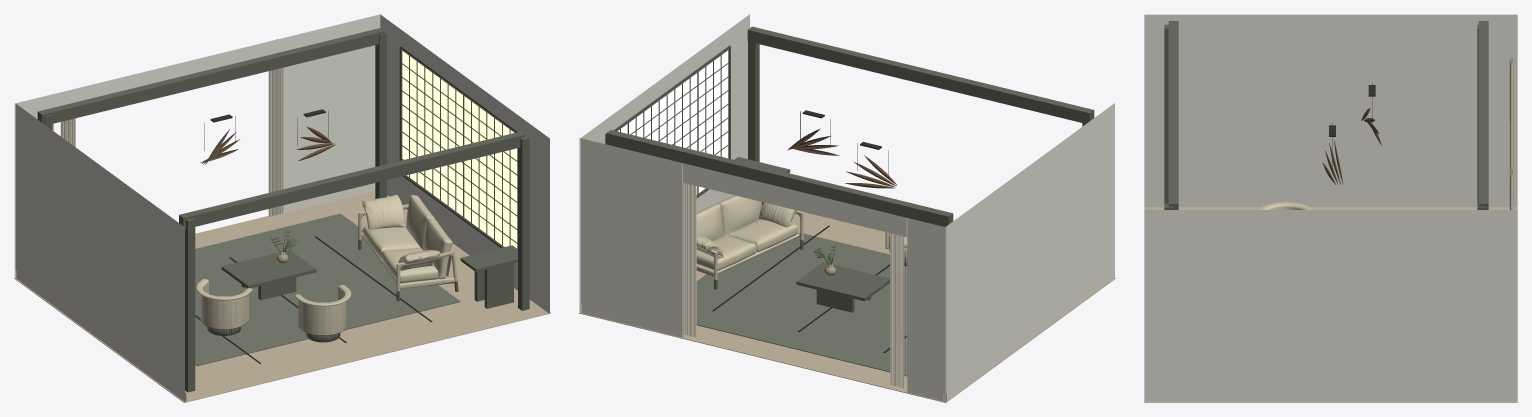
Rendered from great-2.glb.
3 views of the same model, side by side, from view 1: azimuth 30°, elevation 25°; view 2: azimuth 150°, elevation 25°; view 3: azimuth 270°, elevation 25° (orthographic). The views are drawn at different scales.
Visible parts, largest first — view 1: DESIGN | great removable wall finish, DESIGN | Great room primary ground, DESIGN | great floor finish, DESIGN | Long luminous room backdrop diffuse backing, DESIGN | Great room sofa facing conversation, DESIGN | Great room timber ceiling member.001, DESIGN | Great room timber ceiling member, DESIGN | Kumiko | Long luminous room backdrop, DESIGN | Great room soft window edge.001, DESIGN | Great room timber end post.002, DESIGN | Required Bellustar swivel chair two, DESIGN | Great room conversation table top (+7 smaller); view 2: DESIGN | great removable wall finish, DESIGN | Great room primary ground, DESIGN | great floor finish, DESIGN | Great room sofa facing conversation, DESIGN | Great room timber ceiling member, DESIGN | Long luminous room backdrop diffuse backing, DESIGN | Great room timber ceiling member.001, DESIGN | Kumiko | Long luminous room backdrop, DESIGN | Great room soft window edge, DESIGN | Great room soft window edge.001, DESIGN | Great room conversation table top, DESIGN | Great room timber end post.002 (+3 smaller); view 3: DESIGN | great removable wall finish, DESIGN | Great room timber ceiling member, DESIGN | Great room timber ceiling member.001, DESIGN | great floor finish, DESIGN | Great room timber end post, DESIGN | Great room soft window edge, DESIGN | Great room timber end post.001, DESIGN | Required Flou pendant 2, DESIGN | Required Bellustar swivel chair one.
Part boxes in pixels (x1,y1,x2,y2): DESIGN | great removable wall finish: [14, 14, 549, 401]; DESIGN | Great room primary ground: [195, 213, 460, 365]; DESIGN | great floor finish: [14, 191, 550, 402]; DESIGN | Long luminous room backdrop diffuse backing: [402, 51, 517, 248]; DESIGN | Great room sofa facing conversation: [358, 194, 458, 301]; DESIGN | Great room timber ceiling member.001: [37, 28, 384, 124]; DESIGN | Great room timber ceiling member: [179, 131, 525, 229]; DESIGN | Kumiko | Long luminous room backdrop: [399, 46, 517, 249]; DESIGN | Great room soft window edge.001: [268, 67, 283, 216]; DESIGN | Great room timber end post.002: [518, 135, 529, 310]; DESIGN | Required Bellustar swivel chair two: [294, 285, 351, 342]; DESIGN | Great room conversation table top: [221, 249, 316, 288]; DESIGN | great removable wall finish: [579, 14, 1114, 401]; DESIGN | Great room primary ground: [696, 233, 907, 376]; DESIGN | great floor finish: [579, 212, 1115, 402]; DESIGN | Great room sofa facing conversation: [696, 195, 803, 289]; DESIGN | Great room timber ceiling member: [747, 26, 1094, 123]; DESIGN | Long luminous room backdrop diffuse backing: [618, 50, 728, 194]; DESIGN | Great room timber ceiling member.001: [606, 130, 953, 226]; DESIGN | Kumiko | Long luminous room backdrop: [613, 45, 730, 198]; DESIGN | Great room soft window edge: [890, 233, 904, 387]; DESIGN | Great room soft window edge.001: [683, 182, 696, 337]; DESIGN | Great room conversation table top: [796, 262, 890, 301]; DESIGN | Great room timber end post.002: [748, 41, 759, 161]; DESIGN | great removable wall finish: [1144, 14, 1517, 401]; DESIGN | Great room timber ceiling member: [1168, 21, 1178, 209]; DESIGN | Great room timber ceiling member.001: [1478, 21, 1488, 209]; DESIGN | great floor finish: [1144, 207, 1517, 402]; DESIGN | Great room timber end post: [1164, 24, 1168, 203]; DESIGN | Great room soft window edge: [1509, 59, 1513, 170]; DESIGN | Great room timber end post.001: [1477, 24, 1478, 203]; DESIGN | Required Flou pendant 2: [1322, 140, 1343, 184]; DESIGN | Required Bellustar swivel chair one: [1258, 202, 1313, 209].
Size of the model in its own units: 6 by 2.74 by 4.82.
